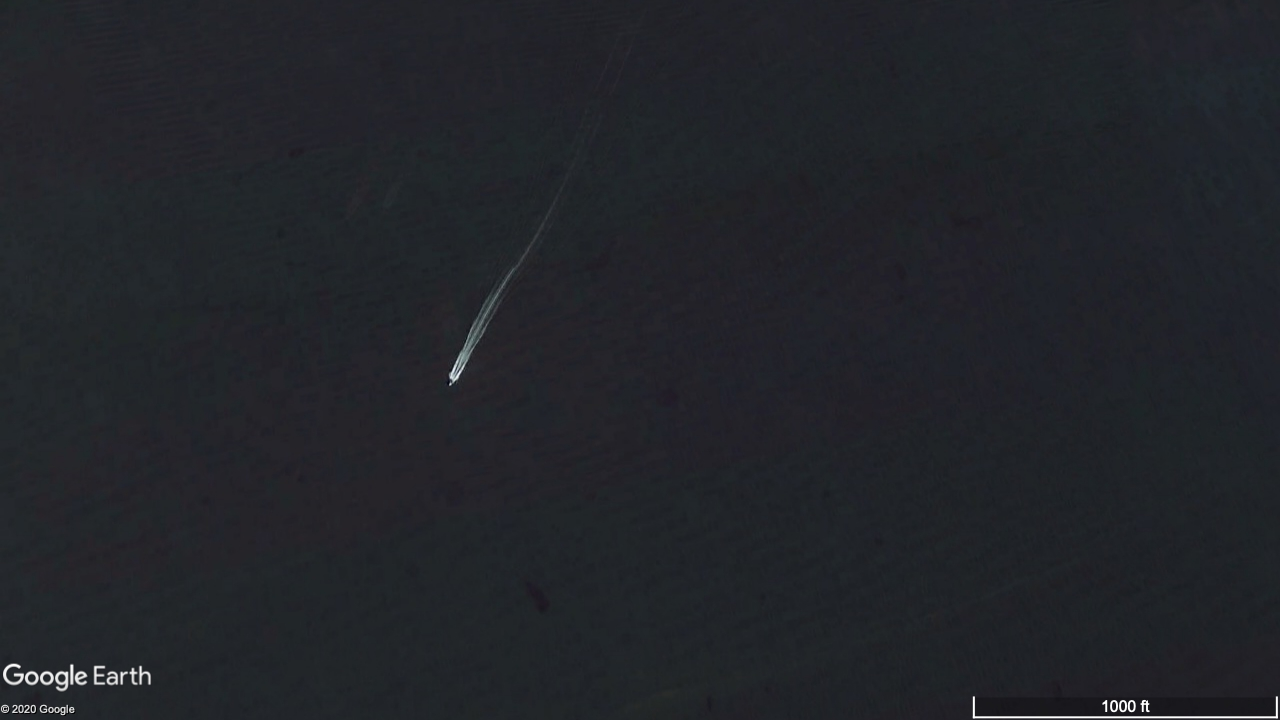satboat: (448, 377, 455, 386)
